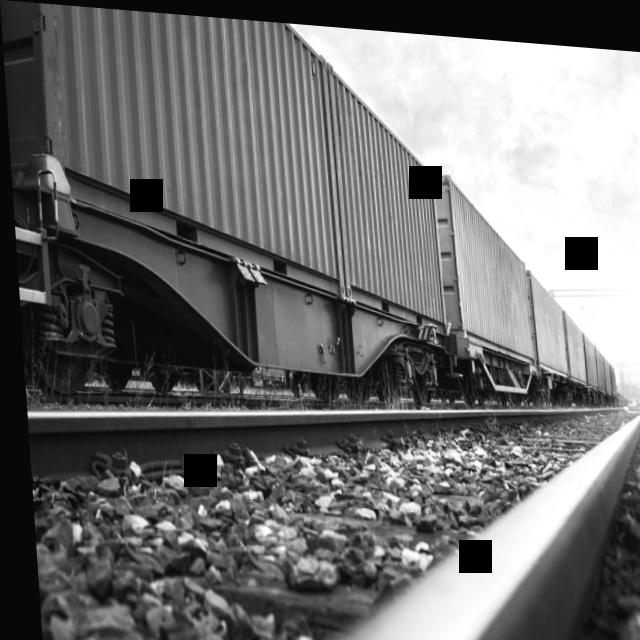container: (0, 0, 340, 295), (328, 52, 446, 322), (432, 158, 532, 353), (524, 256, 565, 366)
flatcar: (9, 173, 450, 419), (447, 324, 537, 403)
